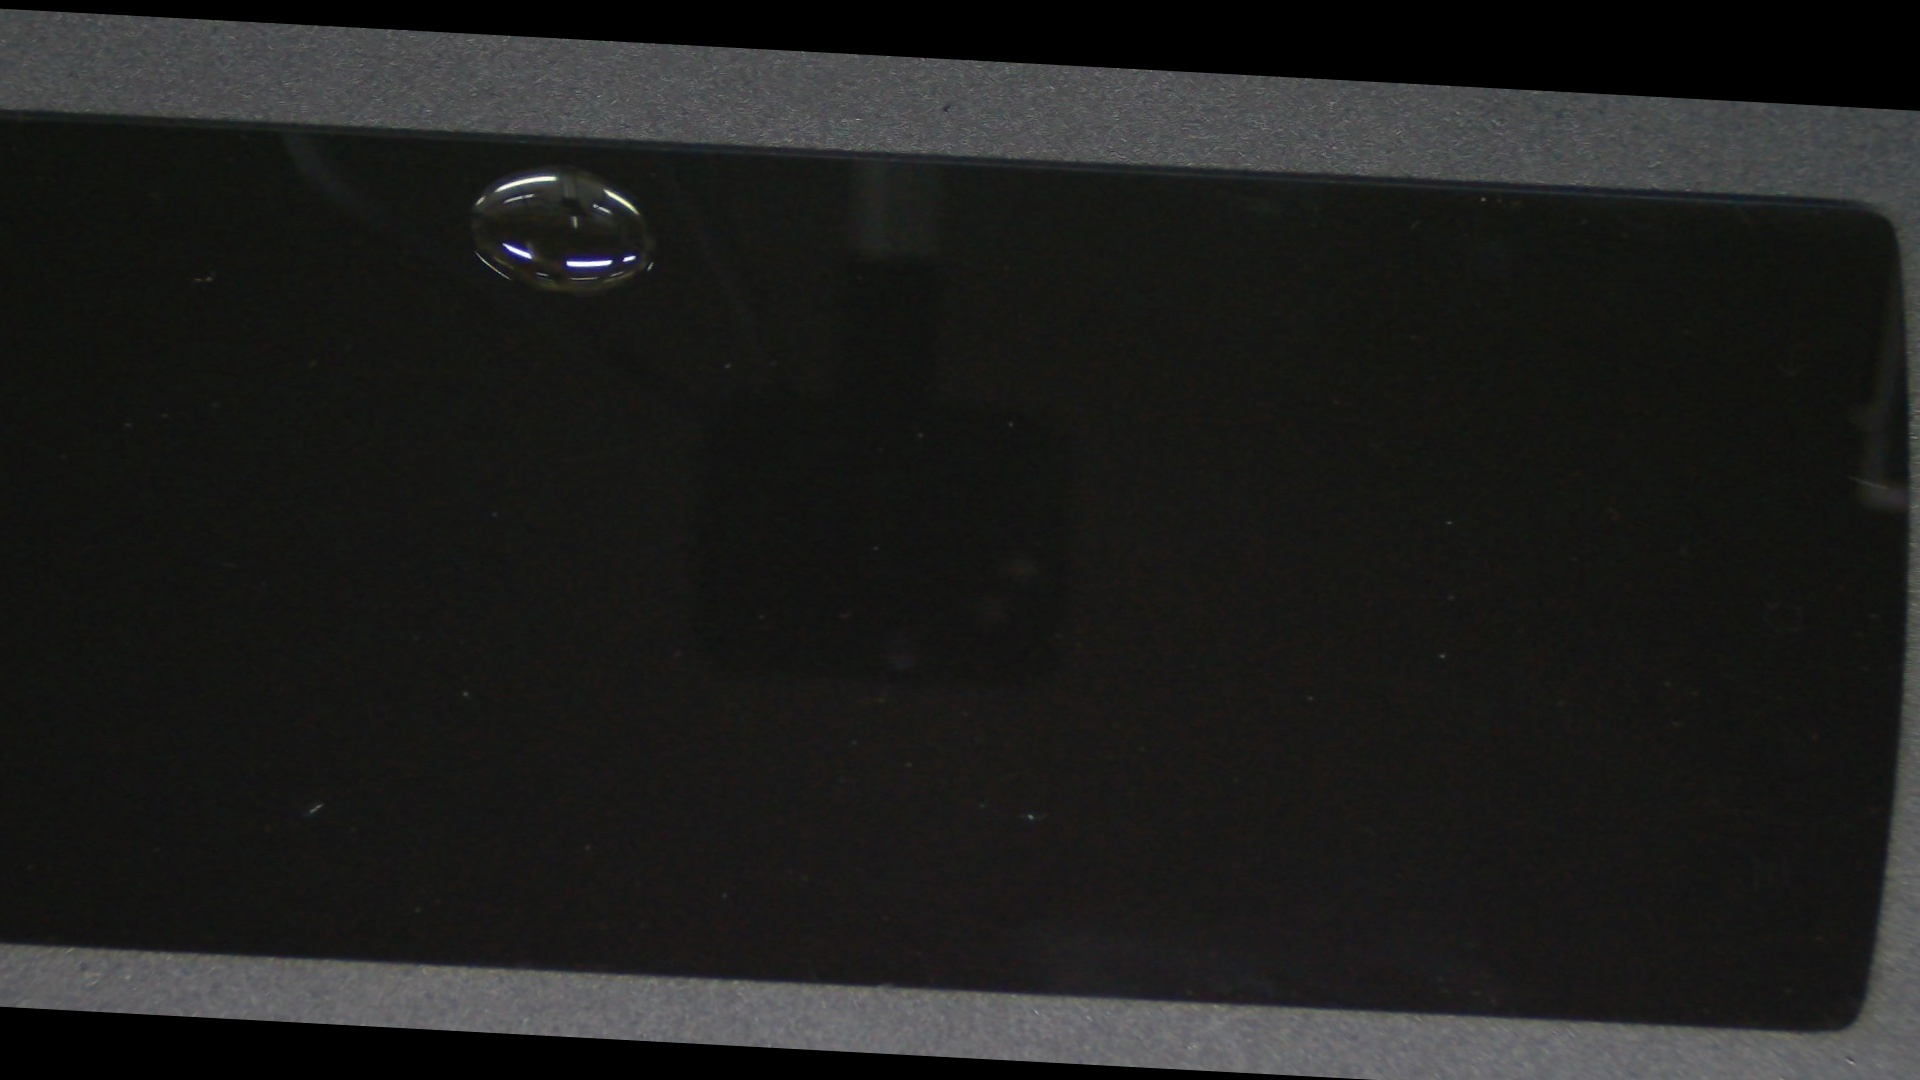oil: (179, 82, 947, 250)
